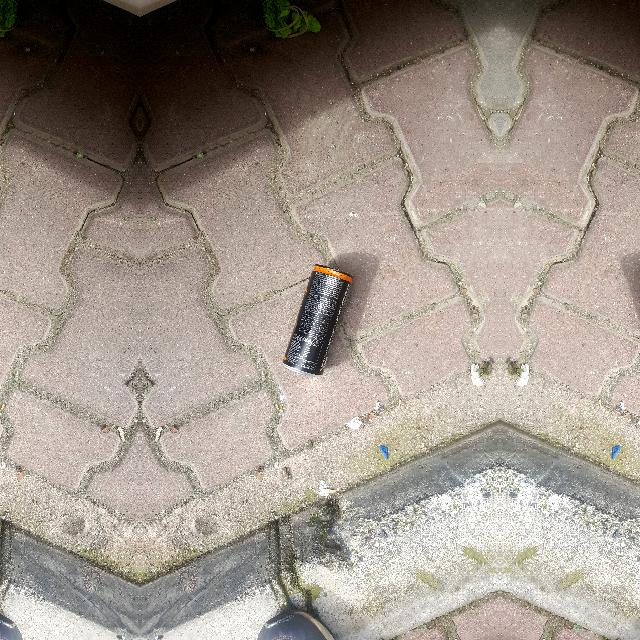Metal: (276, 252, 358, 386)
